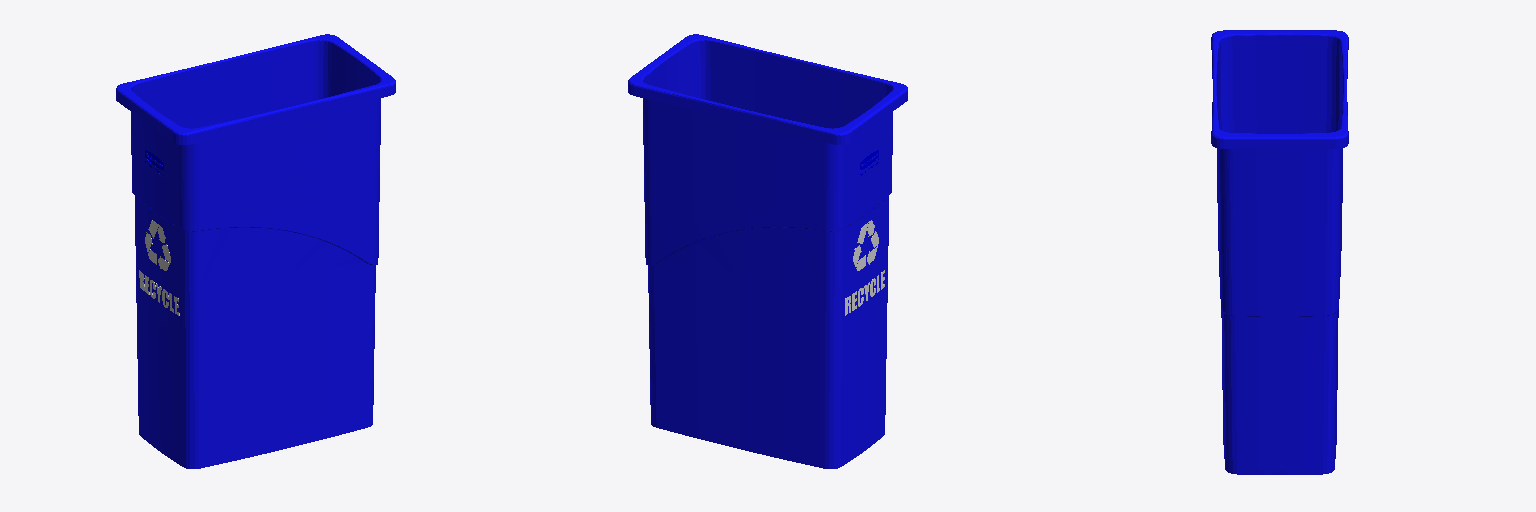
Rendered from Recycle Bin.obj.
3 views of the same model, side by side, from view 1: azimuth 30°, elevation 25°; view 2: azimuth 150°, elevation 25°; view 3: azimuth 270°, elevation 25° (orthographic).
Visible parts, largest first — view 1: Solid3; view 2: Solid3; view 3: Solid3.
Part boxes in pixels (left/top/right/bottom): Solid3: left=116, top=34, right=395, bottom=468; Solid3: left=628, top=34, right=907, bottom=468; Solid3: left=1211, top=30, right=1348, bottom=474.
Bounding box in the file's own units: 20 × 29.8 × 10.75.